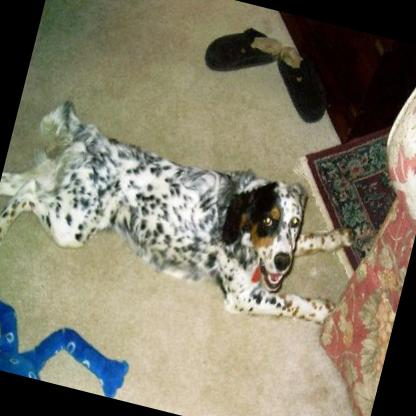English_setter: (0, 88, 384, 337)
